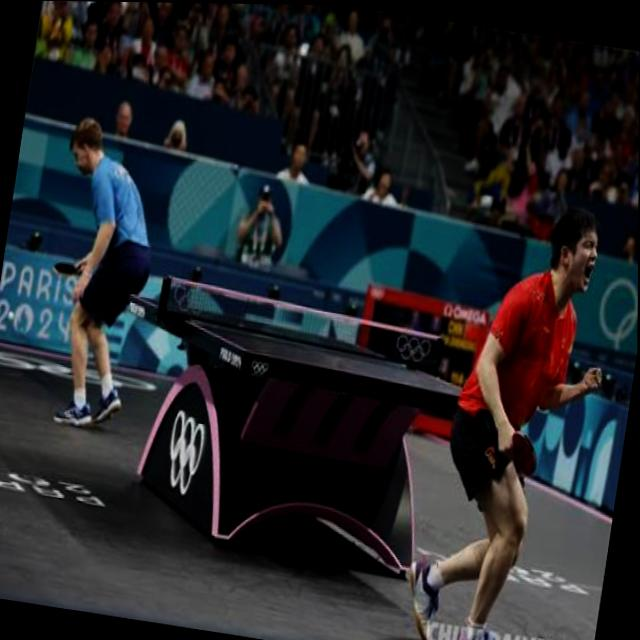TT Net: (159, 273, 444, 378)
TT Racket: (504, 419, 546, 488), (50, 257, 81, 279)
TT Table: (132, 295, 477, 402)
